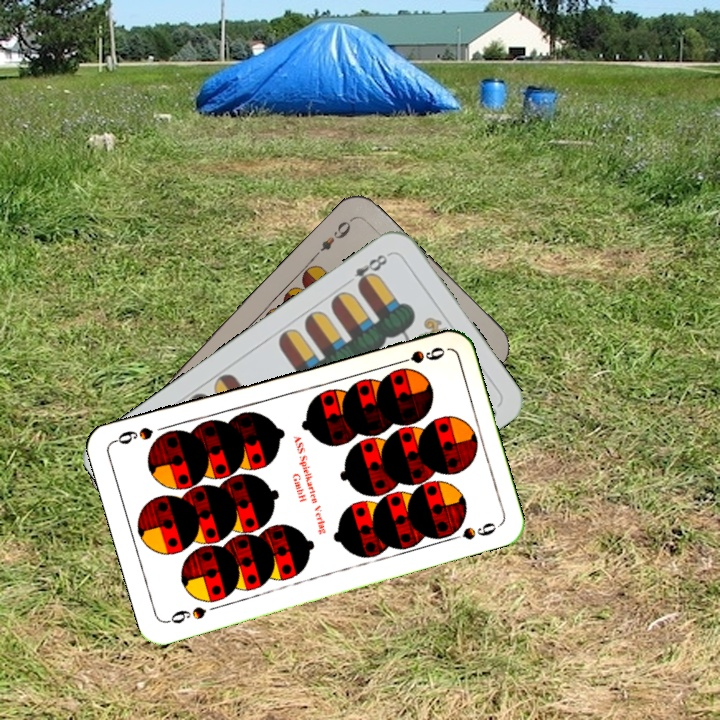E8: (341, 249, 393, 291)
E9: (309, 215, 355, 261)
S9: (389, 342, 448, 368), (163, 602, 209, 626)
